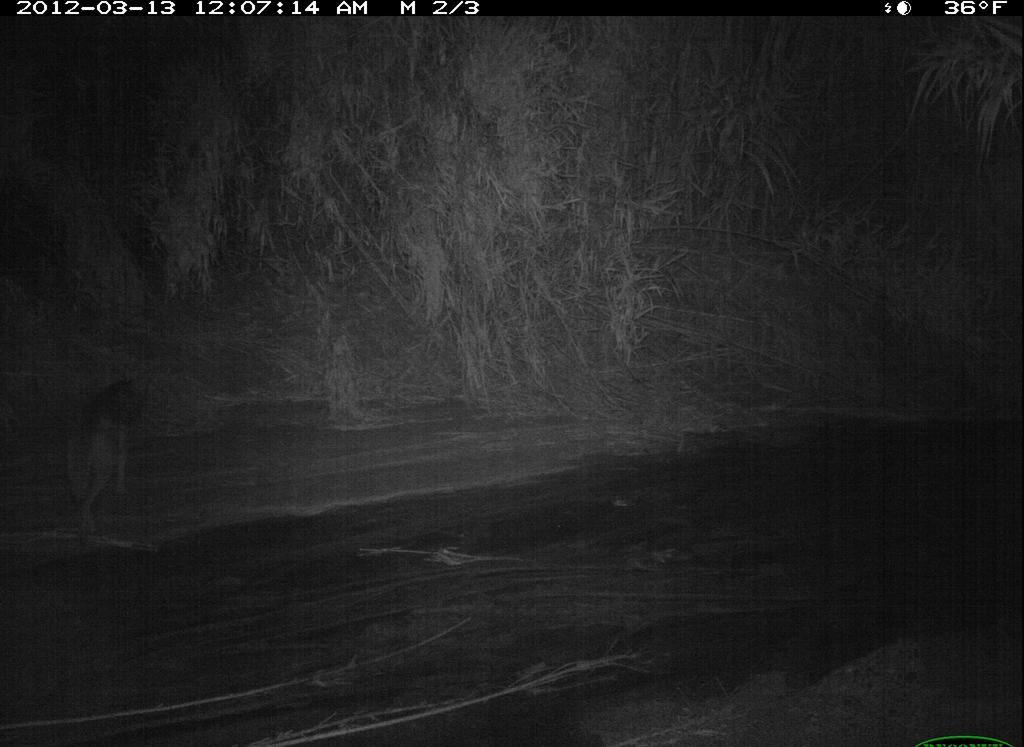coyote: (54, 364, 161, 533)
